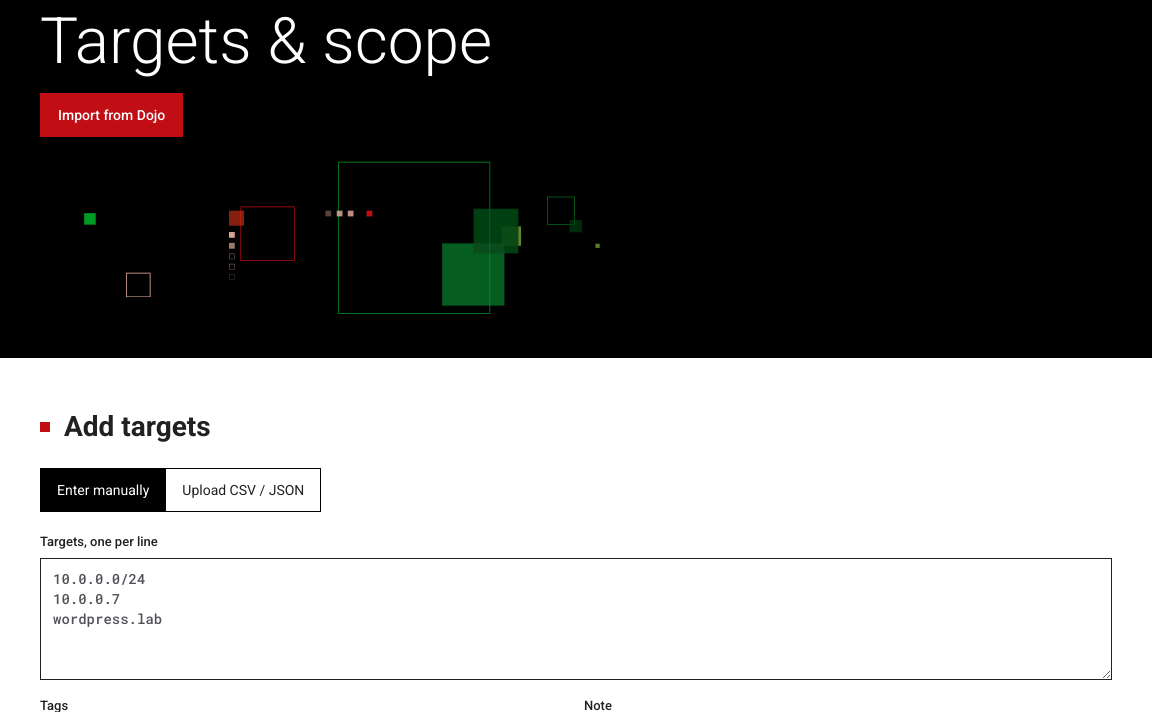
it: Import from Dojo › posts to /api/targets/import-dojo, refreshes the table, and shows imported count
The width and height of the screenshot is (1152, 712).
What coordinates should you click on to do the following:
click the button "Import from Dojo"
I would click on:
 (112, 115)
Its box is [40,93,183,137].
(page scrolled)
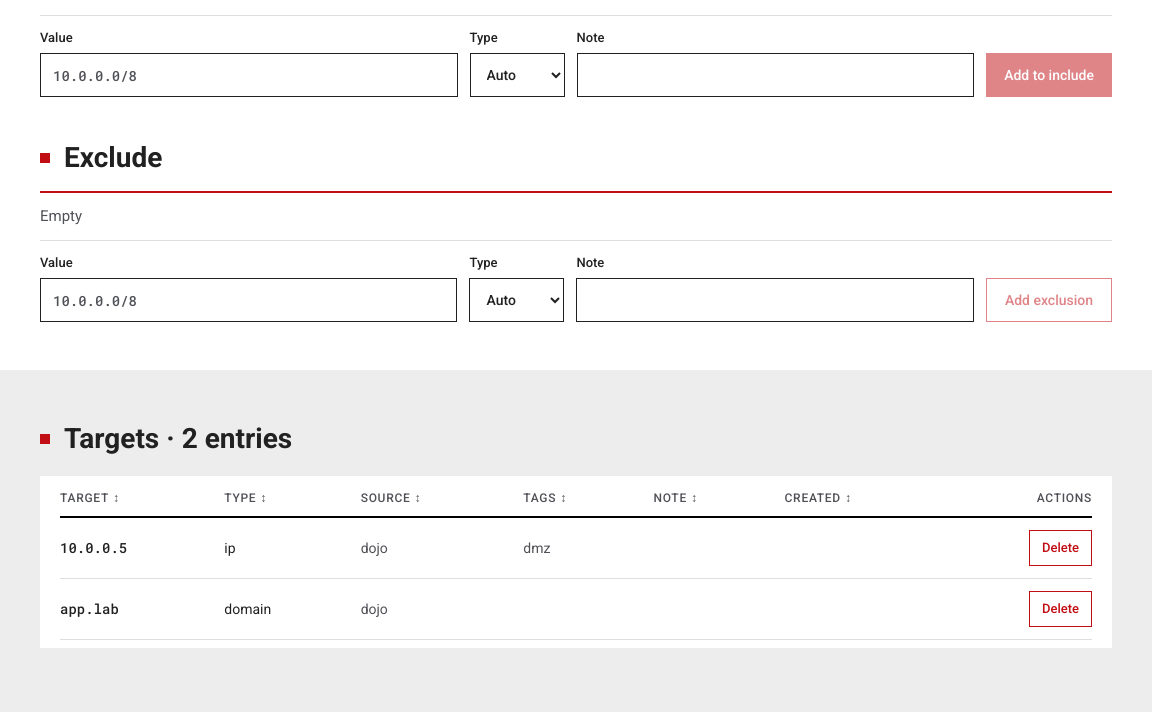
Check: the text "10.0.0.5" is shown, box [60,517,212,579]
Check: the text "app.lab" is shown, box [60,579,212,640]
